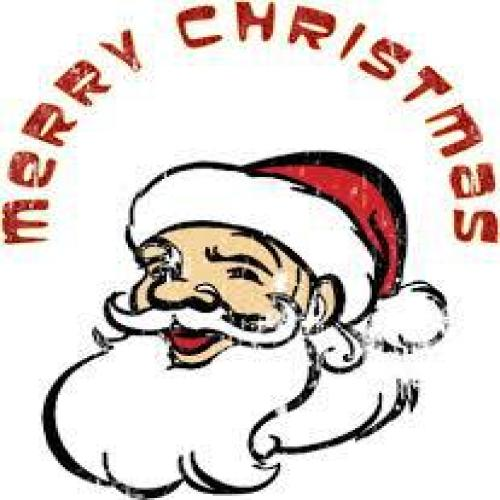Santa: (40, 147, 449, 500)
